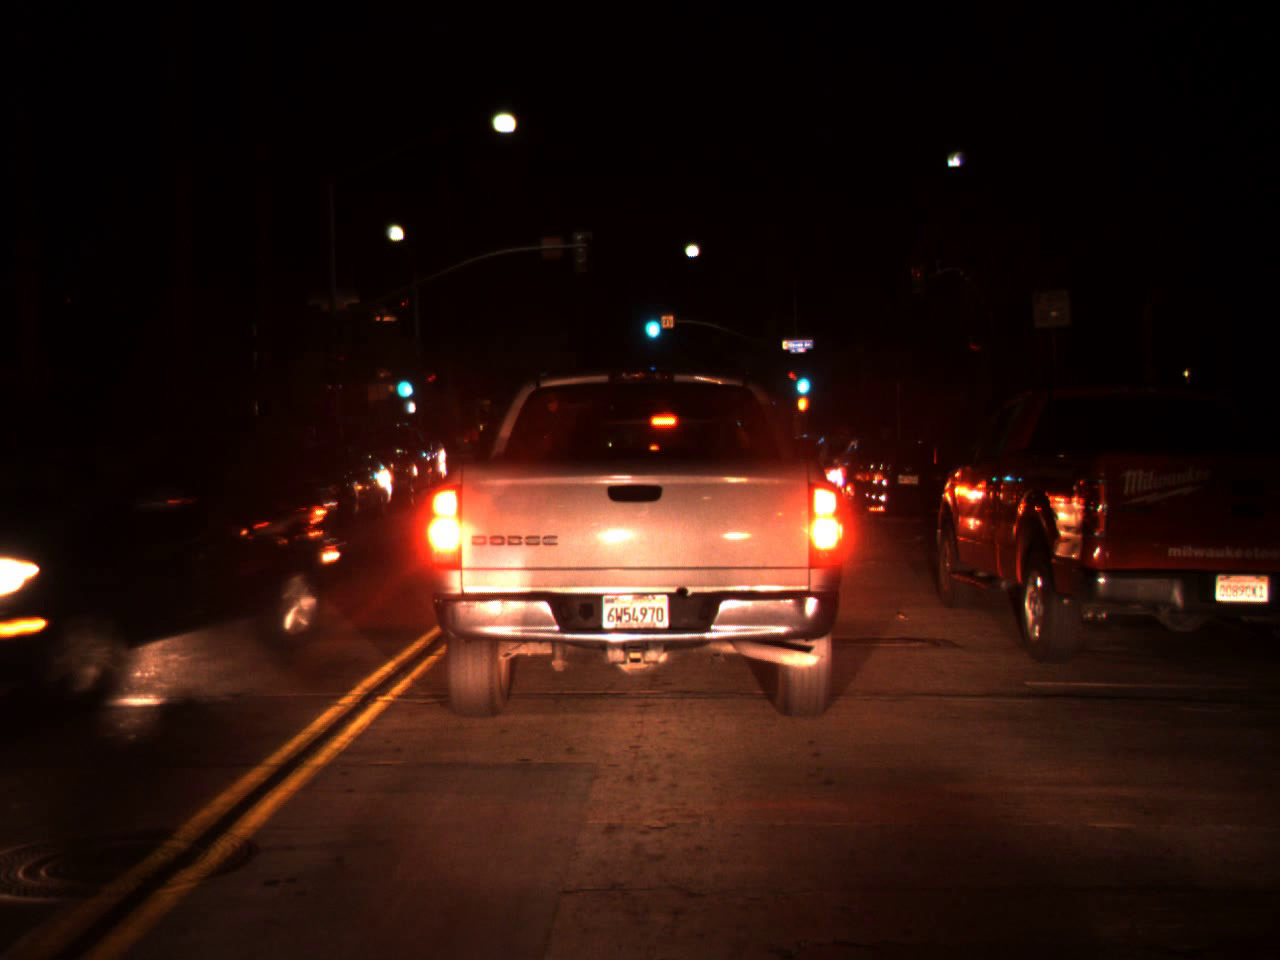go: (639, 299, 662, 344), (791, 356, 812, 401), (392, 361, 413, 403)
